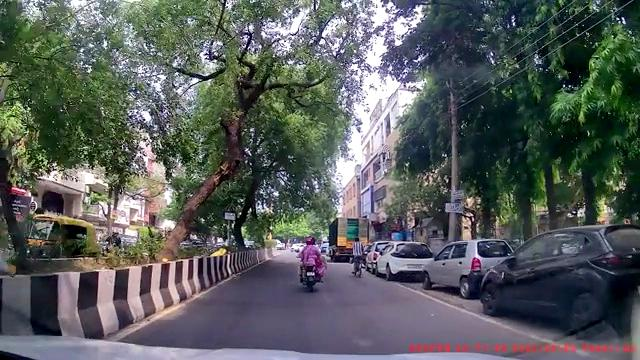passenger_with_helmet: (297, 235, 327, 292)
